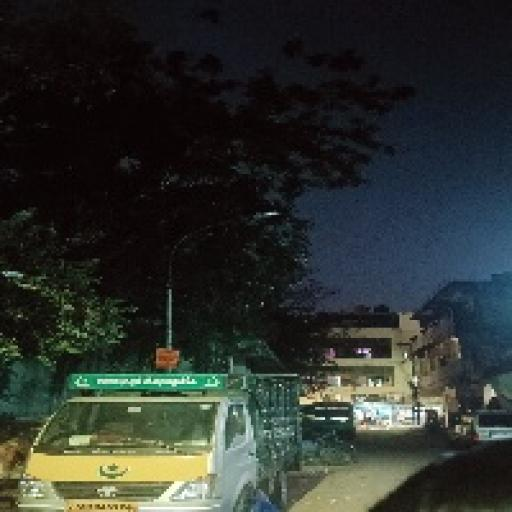Not Working: (238, 204, 284, 228)
